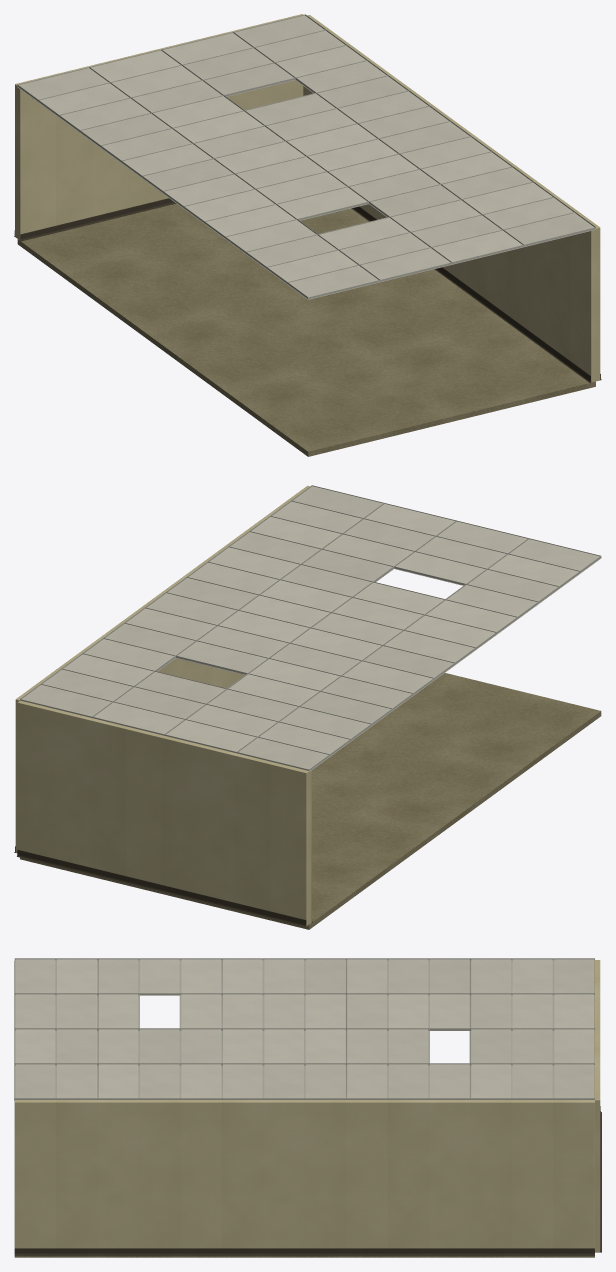
Rendered from short_service_switch.gltf.
3 renders of one model, top to bottom at view 1: azimuth 30°, elevation 25°; view 2: azimuth 150°, elevation 25°; view 3: azimuth 270°, elevation 25°, orthographic.
Visible parts, largest first — view 1: short_service_switch; view 2: short_service_switch; view 3: short_service_switch.
Boxes of the visible parts, x1,y1,x2,y2 form: short_service_switch: [14, 14, 601, 456]; short_service_switch: [14, 485, 601, 929]; short_service_switch: [14, 958, 601, 1257].
Size of the model in its own units: 5 by 2.59 by 8.66.
Materials: 5 (5 with a texture image).
